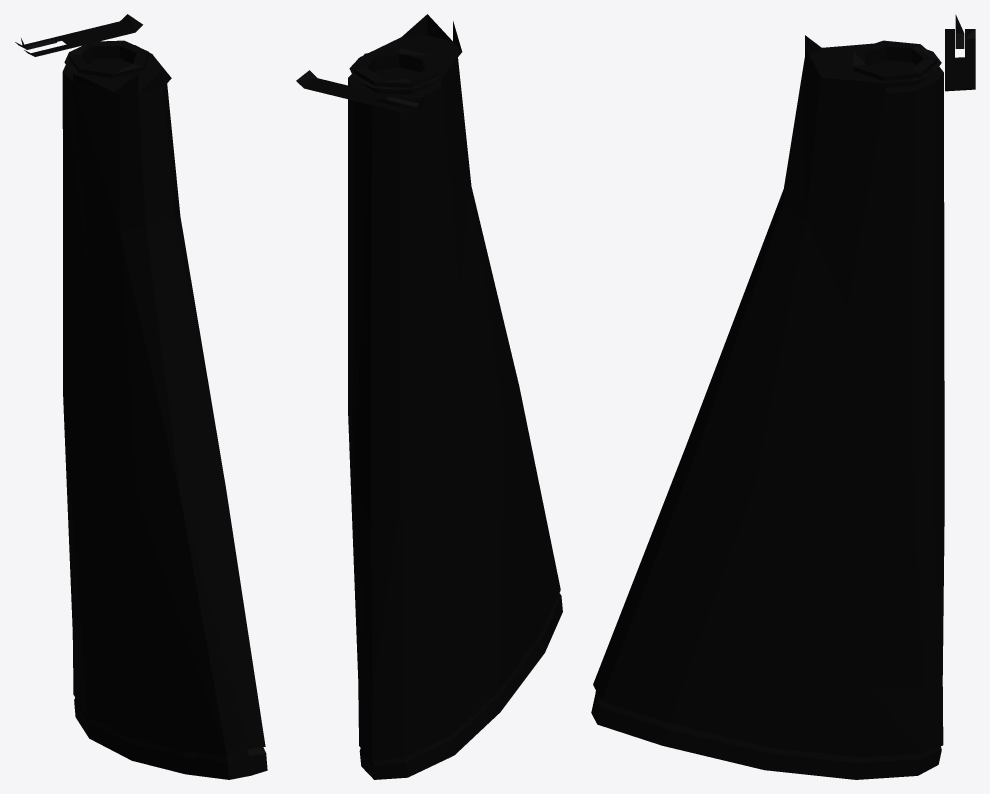
The model's file is Stock_AR_A2.fbx.
The picture shows the model from 3 angles, left to right: view 1: azimuth 30°, elevation 25°; view 2: azimuth 150°, elevation 25°; view 3: azimuth 270°, elevation 25°; orthographic projection. The views are drawn at different scales.
Parts seen in each view (by area): view 1: asset_M16A2.002; view 2: asset_M16A2.002; view 3: asset_M16A2.002.
Part boxes in pixels (bbox=[...]): asset_M16A2.002: bbox=[15, 14, 267, 779]; asset_M16A2.002: bbox=[296, 14, 562, 779]; asset_M16A2.002: bbox=[591, 14, 975, 779].
Size of the model in its own units: 0.0303 by 0.167 by 0.0804.
